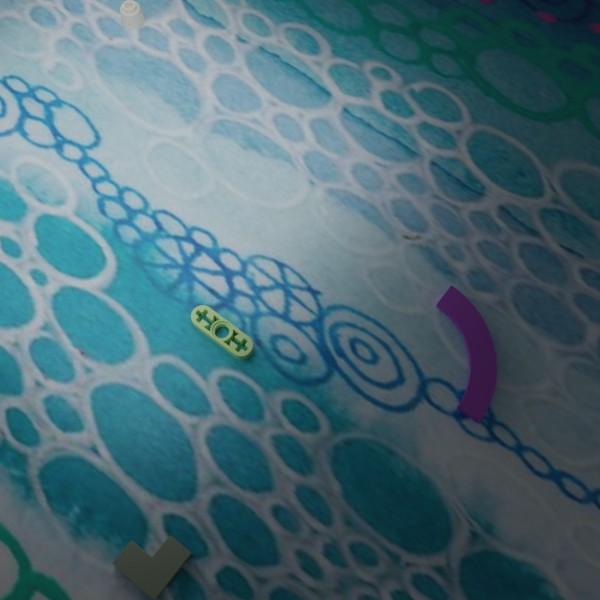lego: (436, 285, 496, 423), (112, 535, 192, 600), (190, 305, 253, 359), (120, 0, 145, 29)
